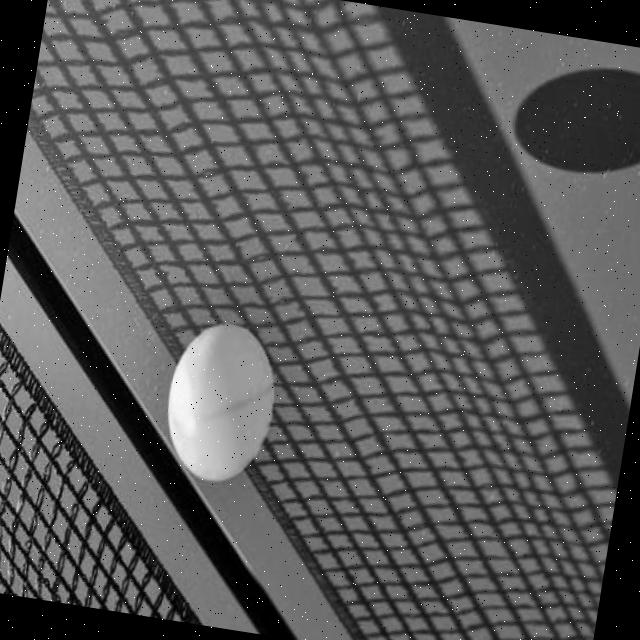ping-pong-ball: (155, 310, 288, 492)
